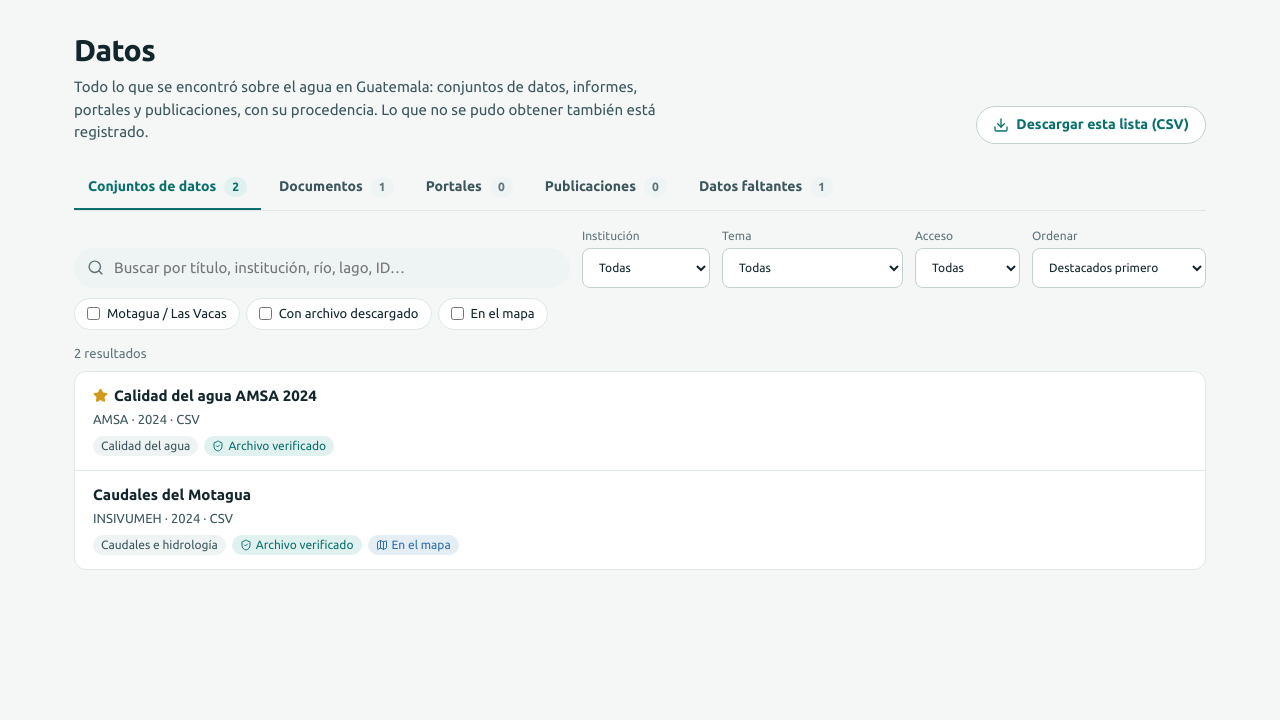
Test: vista de datos › muestra los datos faltantes con cómo pedirlos
This screenshot has width=1280, height=720.
Click the tab "Datos faltantes 1" at (766, 188), box [685,166,847,210]
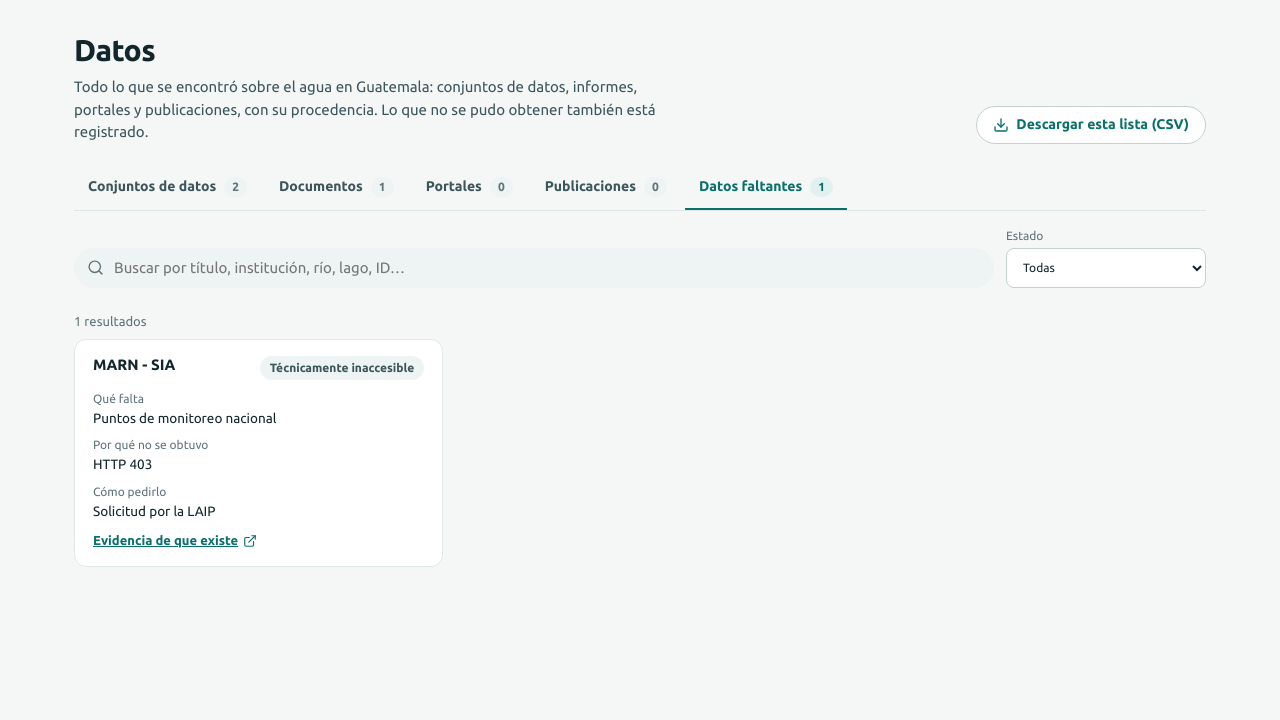
Now the heading "MARN - SIA" is shown, box [93,356,175,374]
Now the text "Solicitud por la LAIP" is shown, box [93,502,216,518]
